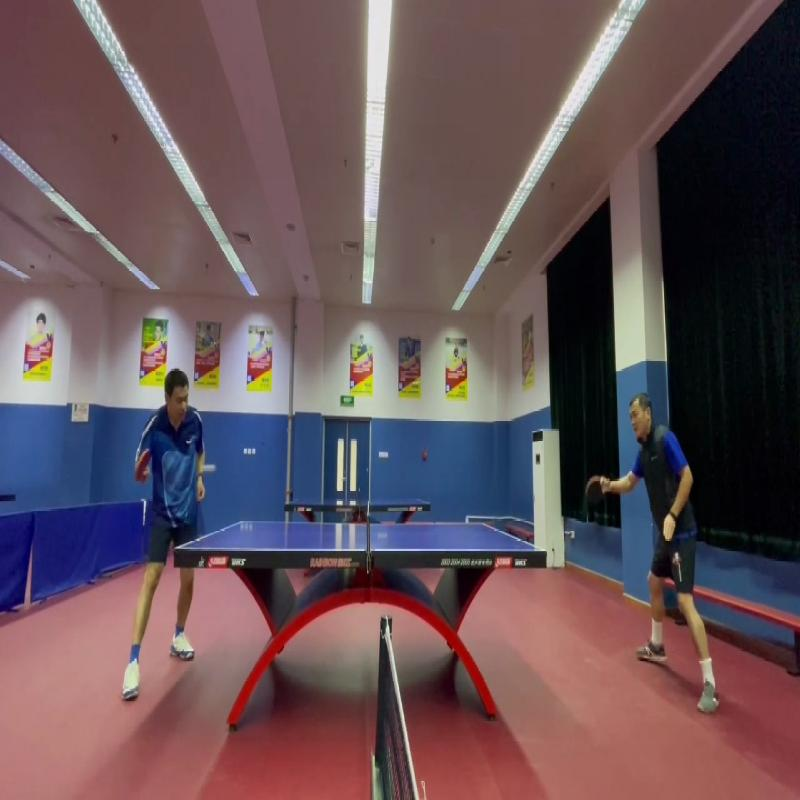bats: (127, 445, 160, 491)
